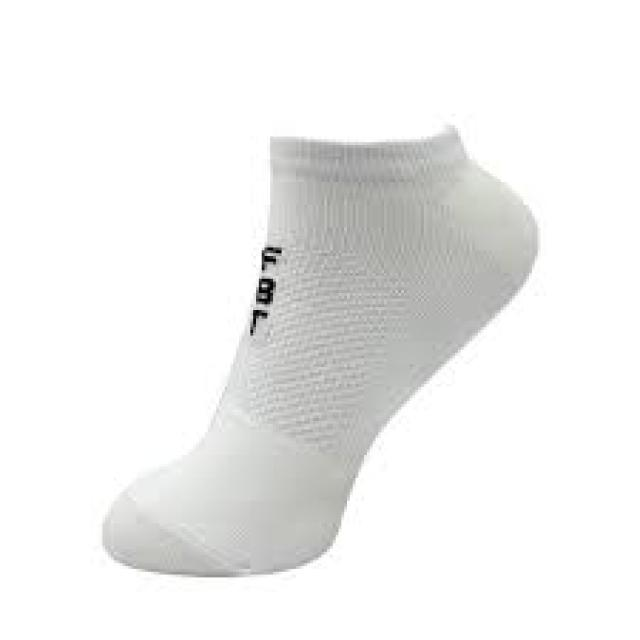sock: (100, 122, 538, 578)
